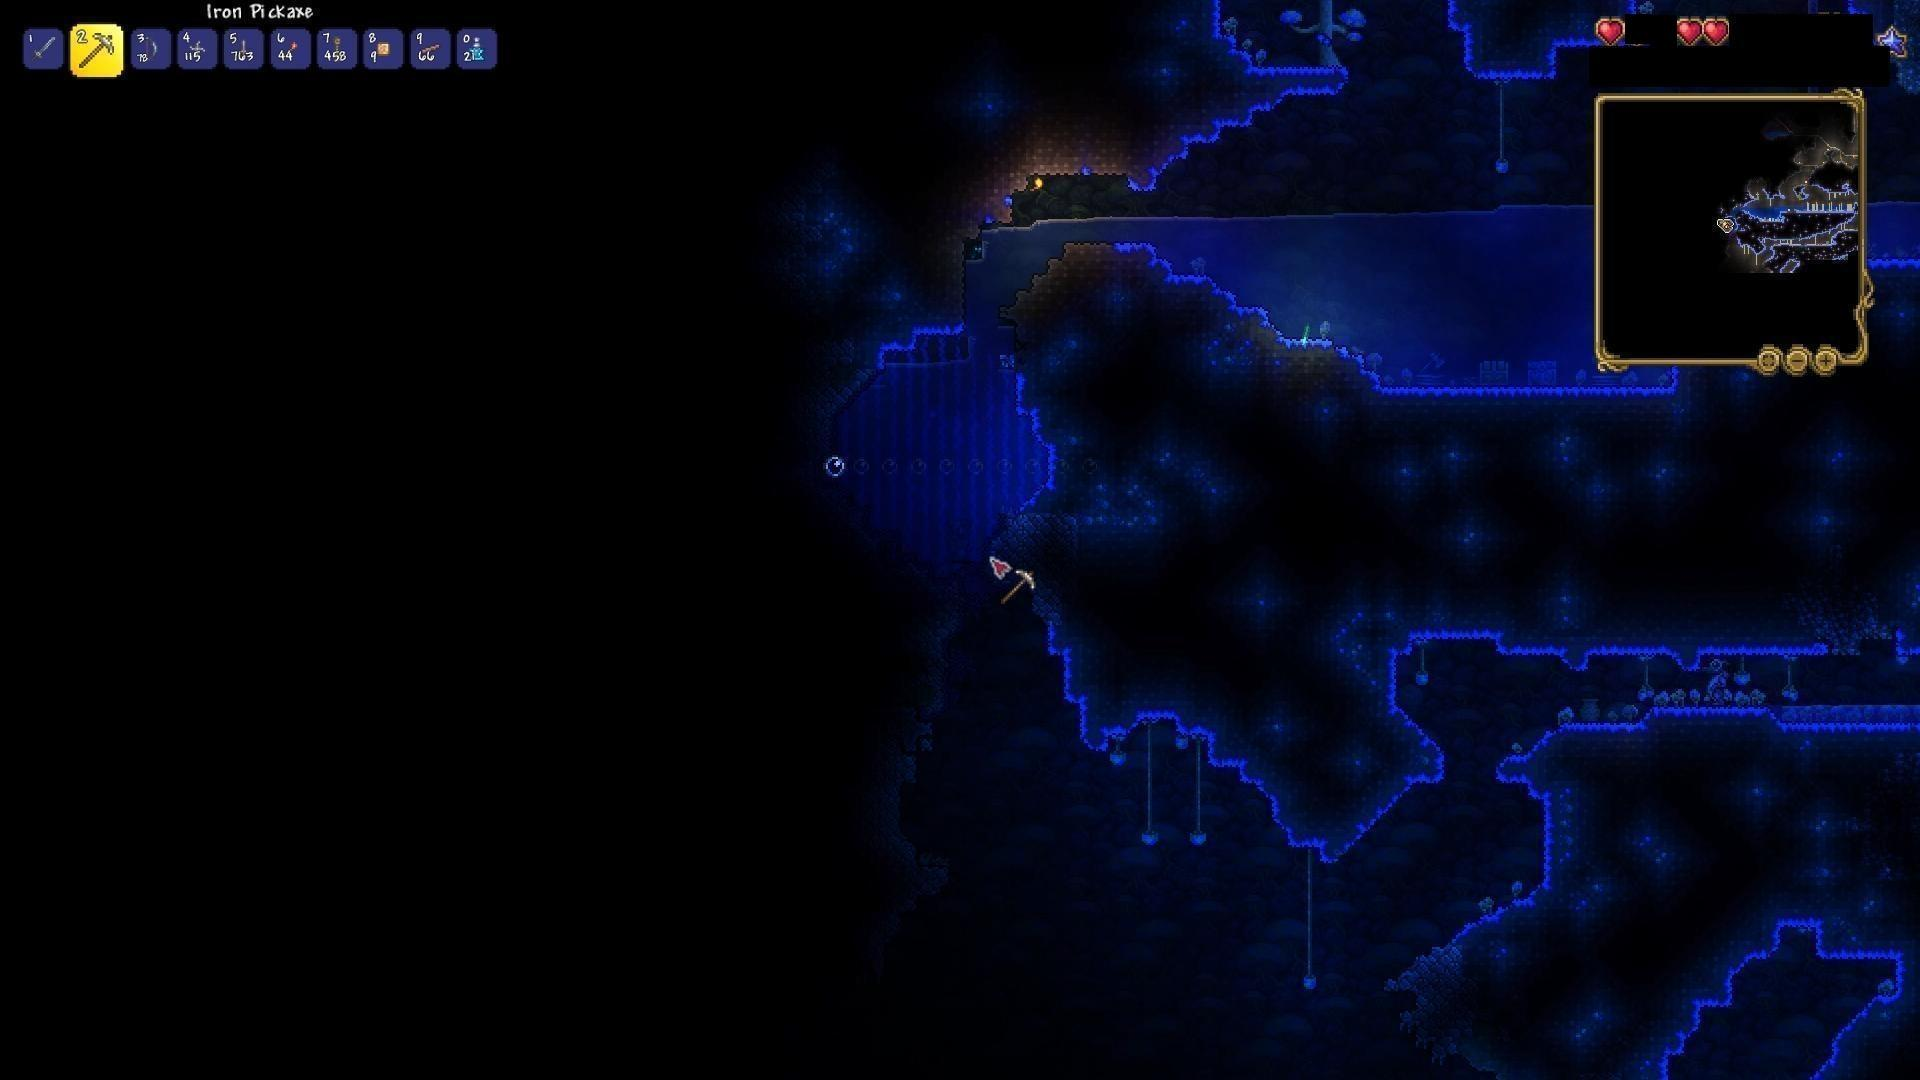heart: (1702, 17, 1733, 51), (1593, 16, 1626, 46), (1676, 15, 1704, 50)
